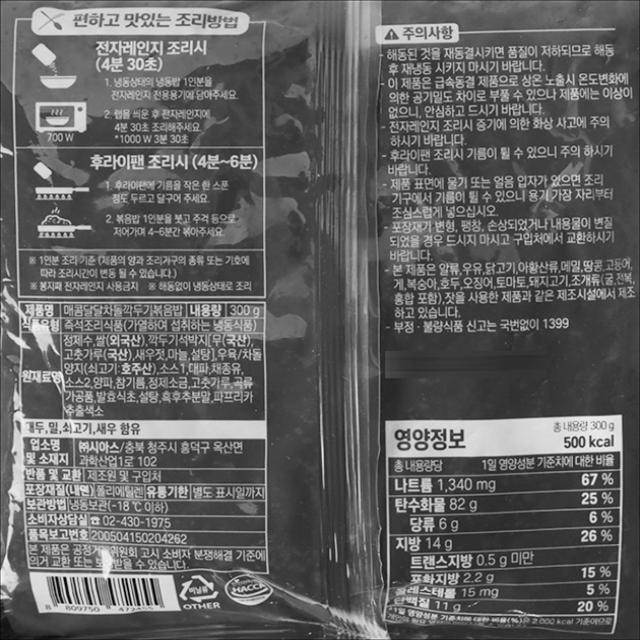Nutrition Label: (379, 410, 631, 637)
